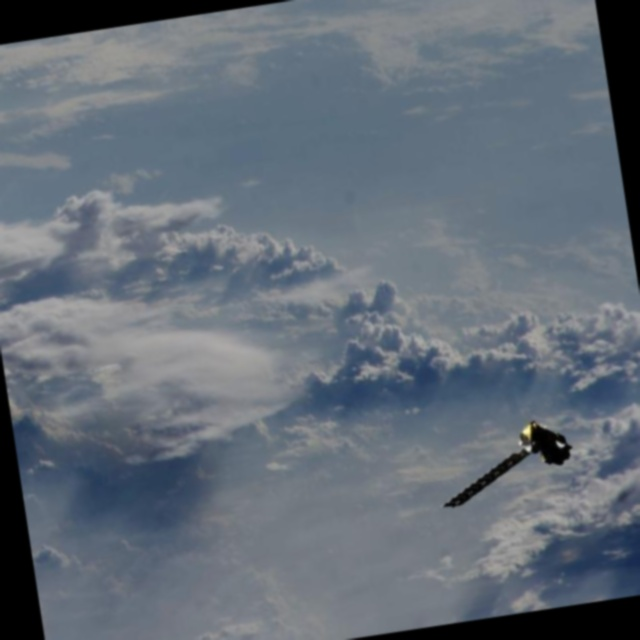satellite: (422, 410, 579, 525)
